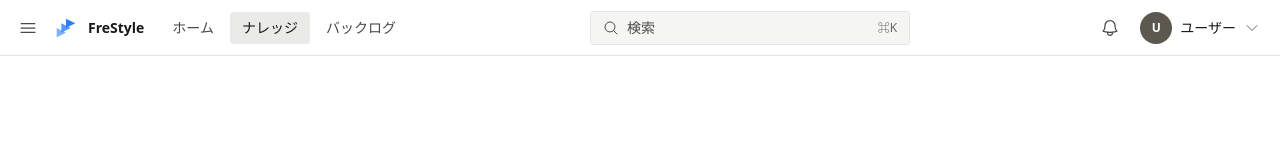
Scenario: Header › サイドバーの固定表示 / 一時表示を切り替えるボタン › 一時表示中にクリックすると固定表示に切り替わり、アイコン（ラベル）が✕に変わる
This screenshot has width=1280, height=160.
Step 1. Click the button named "サイドバーを固定表示する" → (28, 28), box [12,12,44,44]
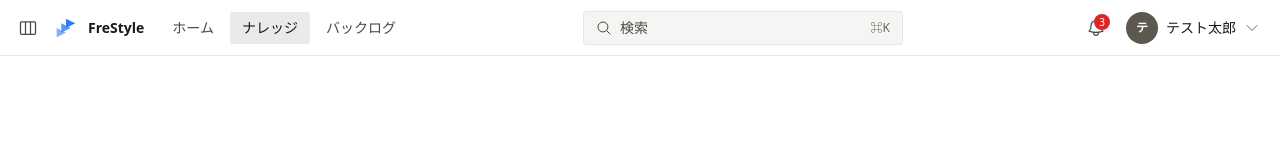
Now the button named "サイドバーを閉じる" is shown, box [12,12,44,44]
